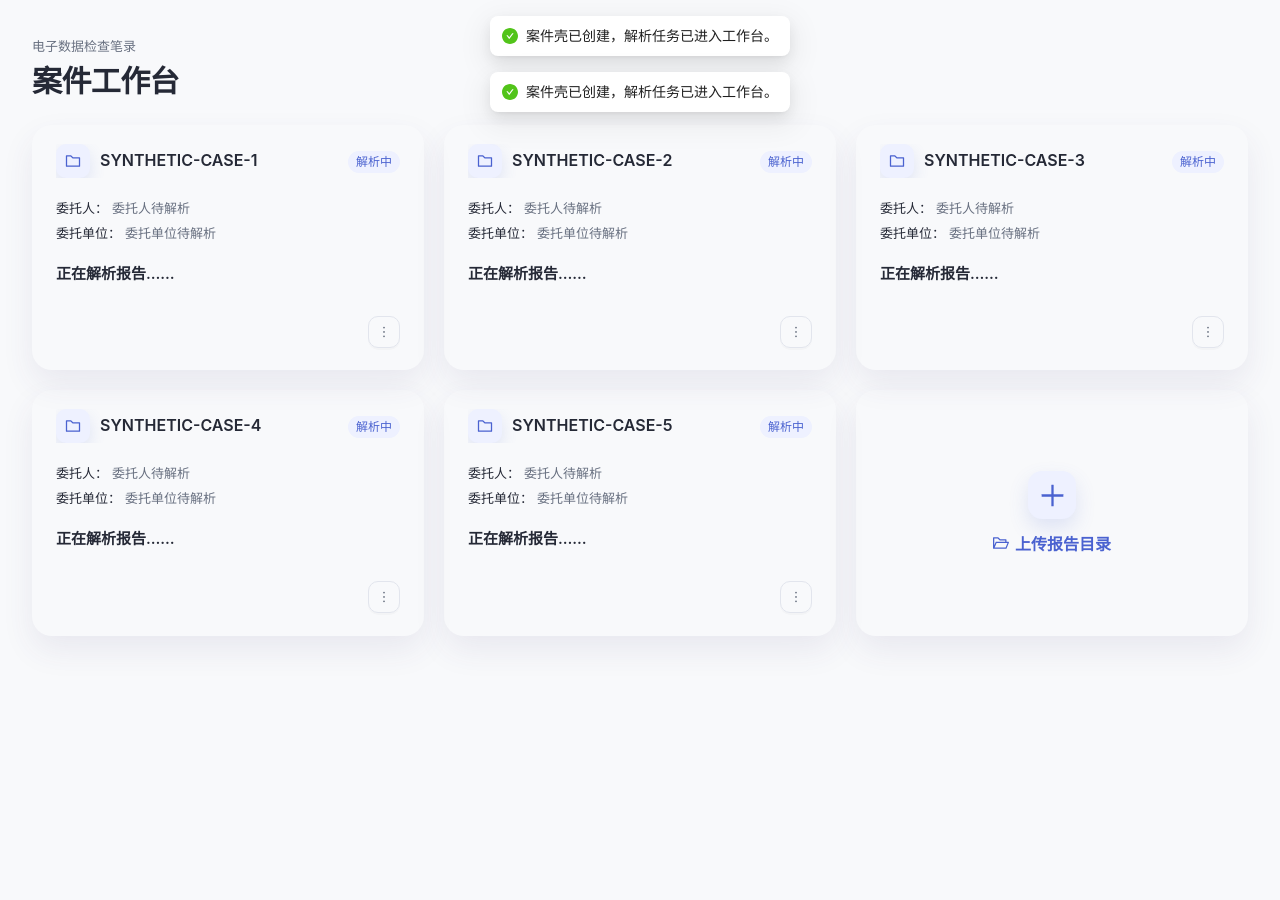
CaseWorkbenchPage › shows the backend safe submission error instead of hiding its cause
expect the number of elements with class "case-workbench-card" is 5: met, box left=32, top=125, right=424, bottom=370; left=444, top=125, right=836, bottom=370; left=856, top=125, right=1248, bottom=370; left=32, top=390, right=424, bottom=636; left=444, top=390, right=836, bottom=636
Click the button "上传报告目录".
click(1052, 513)  # box left=856, top=390, right=1248, bottom=636
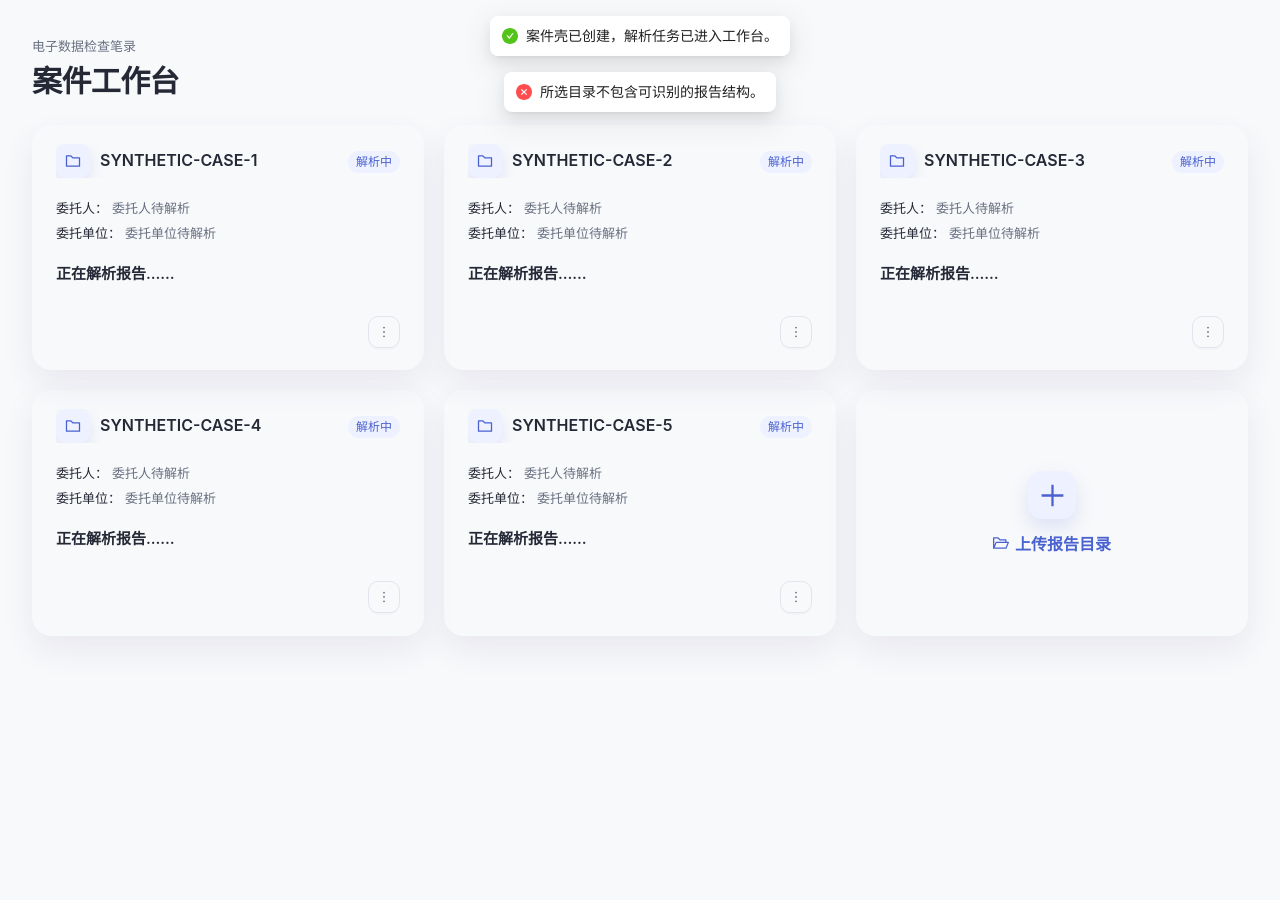
expect the text "所选目录不包含可识别的报告结构。" is shown: met, box left=540, top=81, right=764, bottom=103
